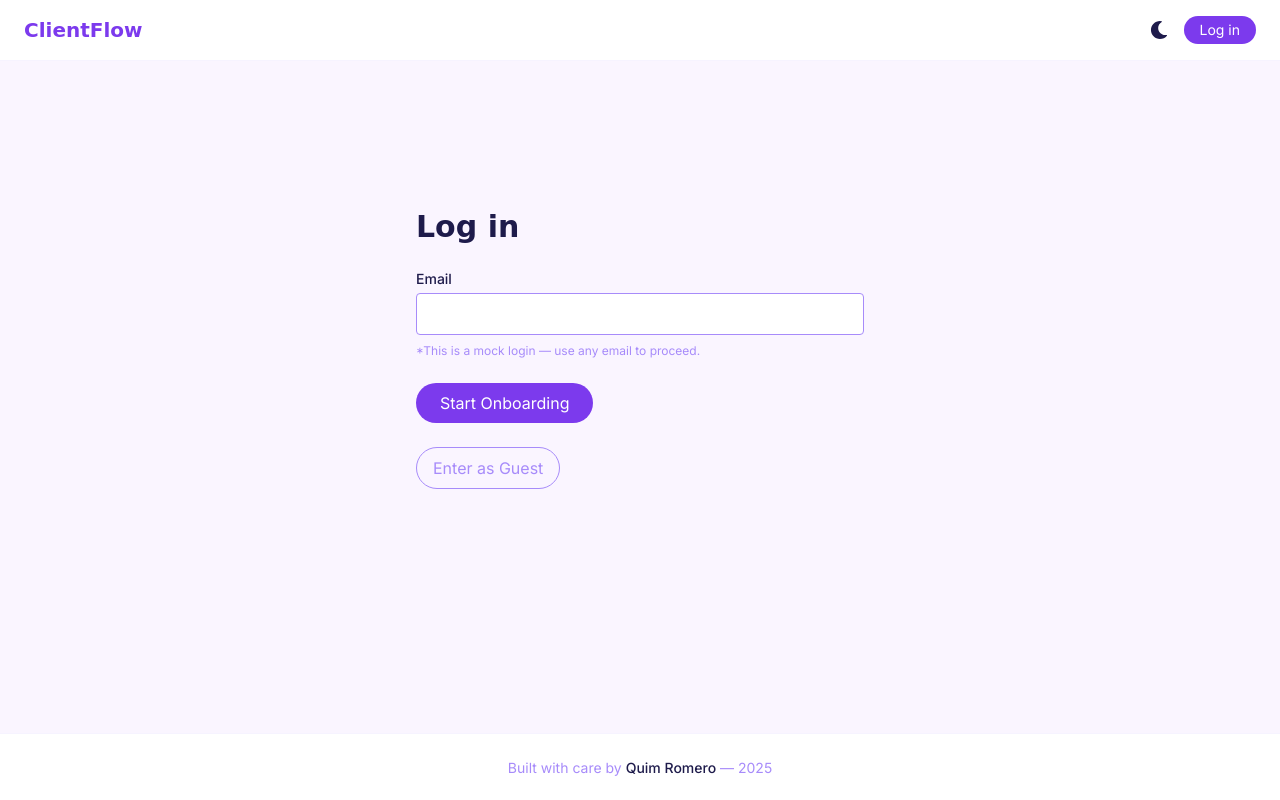
Test: ClientFlow smoke › Login -> Onboarding (mock email)
In the field: (640, 314) 416,293 -> 864,335, type "qa@clientflow.io"
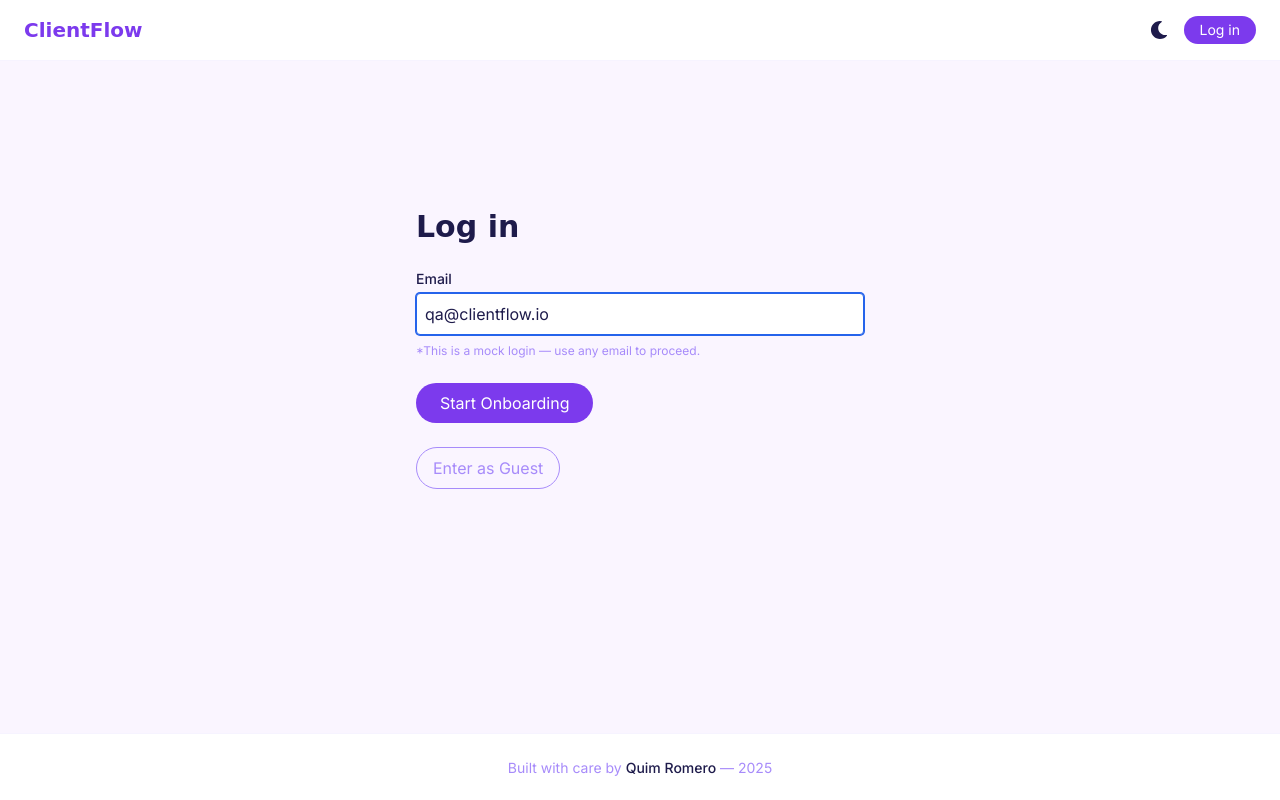
Click the button "Start Onboarding": (505, 403) 416,383 -> 594,423
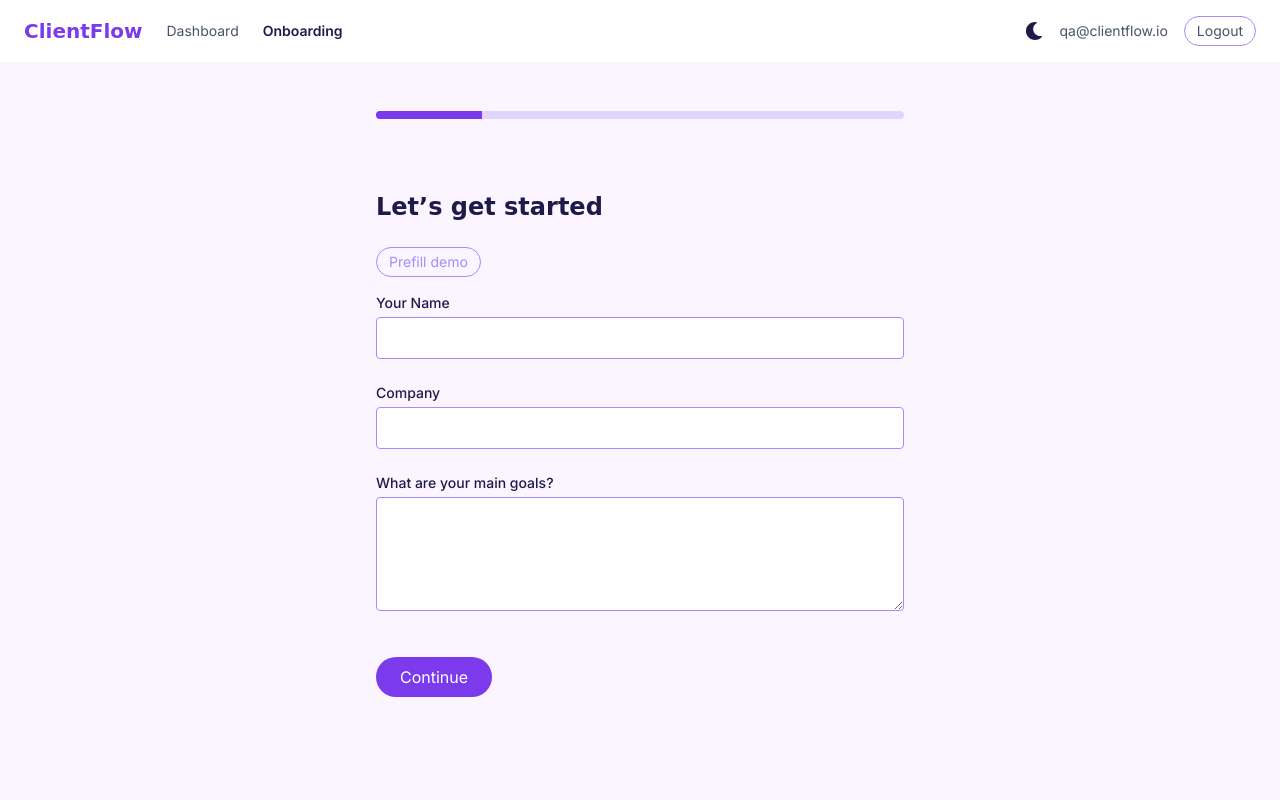
expect the text "Your Name" is shown: met, box 376,294 -> 450,311
